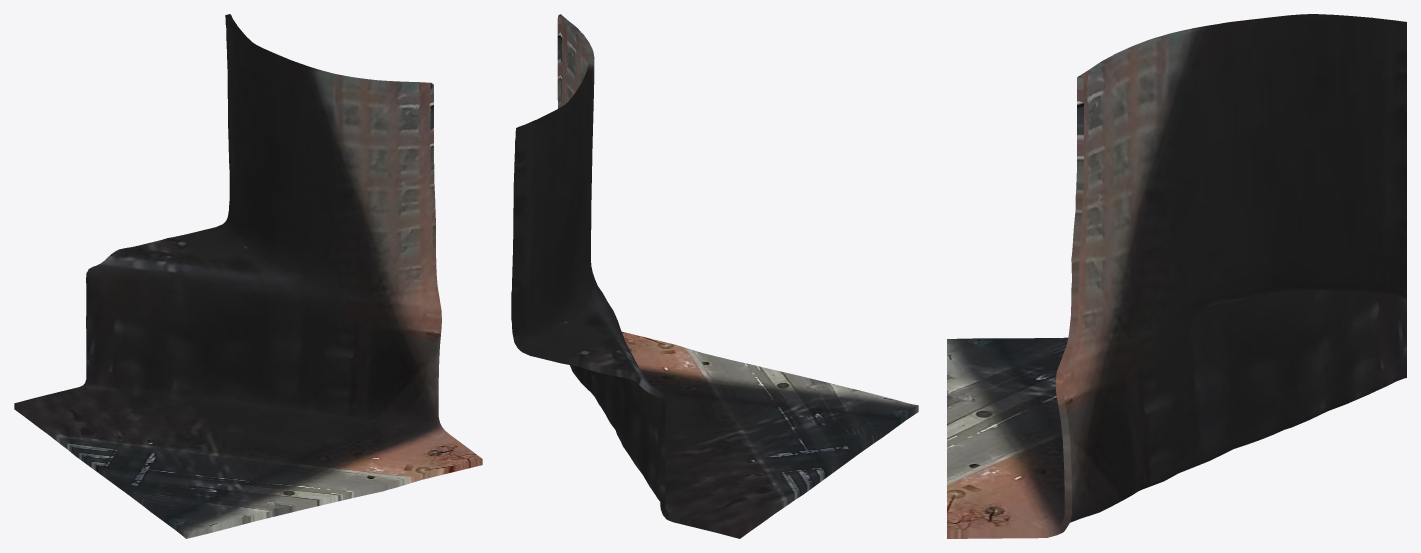
The model's file is z20-167777-405233-h0-yup-uvflip-v3-world.glb.
The picture shows the model from 3 angles, left to right: view 1: azimuth 30°, elevation 25°; view 2: azimuth 150°, elevation 25°; view 3: azimuth 270°, elevation 25°; orthographic projection. The views are drawn at different scales.
Size of the model in its own units: 30.16 by 33.76 by 30.32.
Materials: 1 (1 with a texture image).
